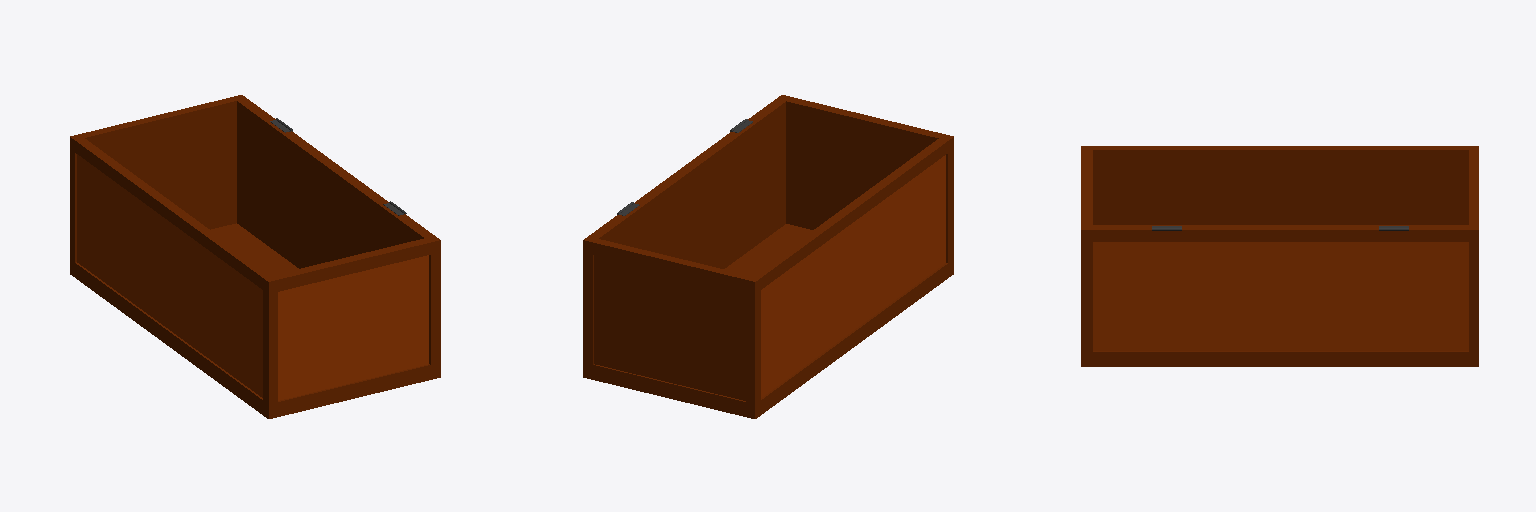
Rendered from chest.obj.
3 renders of one model, left to right at view 1: azimuth 30°, elevation 25°; view 2: azimuth 150°, elevation 25°; view 3: azimuth 270°, elevation 25°, orthographic.
Parts seen in each view (by area): view 1: Cube.033_Cube.060; view 2: Cube.033_Cube.060; view 3: Cube.033_Cube.060.
Part boxes in pixels (left/top/right/bottom): Cube.033_Cube.060: left=70, top=95, right=440, bottom=418; Cube.033_Cube.060: left=583, top=95, right=953, bottom=418; Cube.033_Cube.060: left=1081, top=146, right=1478, bottom=366.
Bounding box in the file's own units: 0.7933 × 0.6083 × 1.57.